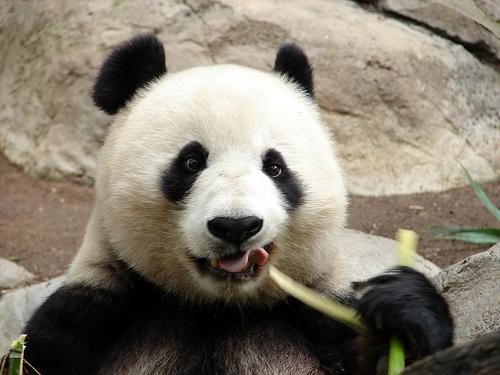panda: (23, 35, 453, 374)
